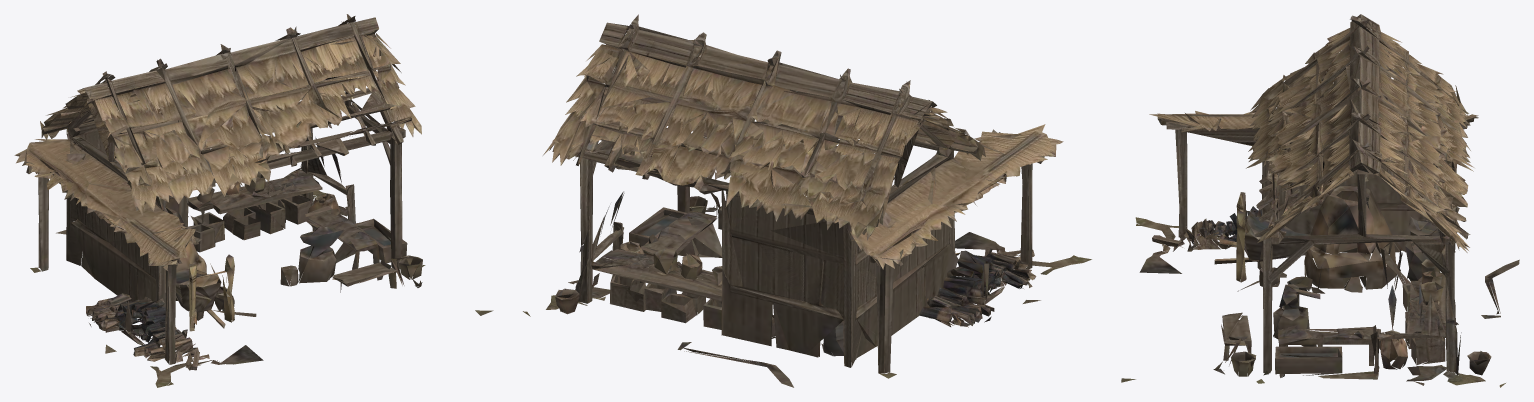
File: forge.glb
3 views of the same model, side by side, from view 1: azimuth 30°, elevation 25°; view 2: azimuth 150°, elevation 25°; view 3: azimuth 270°, elevation 25° (orthographic). The views are drawn at different scales.
Visible parts, largest first — view 1: output_unwrapped; view 2: output_unwrapped; view 3: output_unwrapped.
Boxes of the visible parts, x1=… form: output_unwrapped: x1=14, y1=14, x2=493, y2=387; output_unwrapped: x1=523, y1=14, x2=1091, y2=387; output_unwrapped: x1=1121, y1=14, x2=1519, y2=387.
Bounding box in the file's own units: 8 × 5.1 × 7.82.
Materials: 1 (1 with a texture image).
